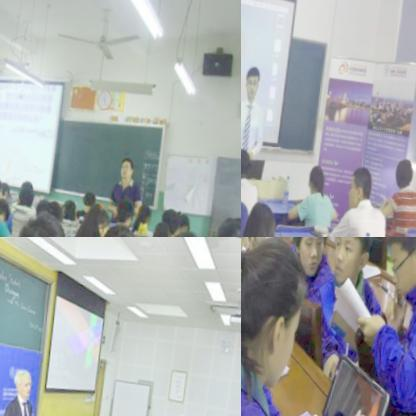head: (241, 237, 312, 398), (382, 237, 416, 311), (12, 202, 70, 237), (329, 237, 376, 280), (241, 195, 284, 237), (286, 237, 329, 275), (346, 160, 374, 211), (84, 197, 111, 237), (112, 188, 139, 226), (392, 149, 416, 189), (10, 363, 36, 398), (98, 217, 141, 237), (243, 60, 265, 98), (210, 213, 241, 237), (308, 157, 328, 194), (14, 180, 37, 212), (48, 195, 68, 228), (150, 213, 173, 237), (161, 197, 180, 226), (173, 204, 193, 230), (134, 196, 153, 223), (241, 141, 254, 179), (63, 190, 80, 217), (119, 151, 135, 179), (36, 192, 53, 216), (82, 182, 98, 205), (0, 175, 14, 199), (0, 191, 10, 221), (0, 169, 4, 200), (175, 410, 186, 416)
